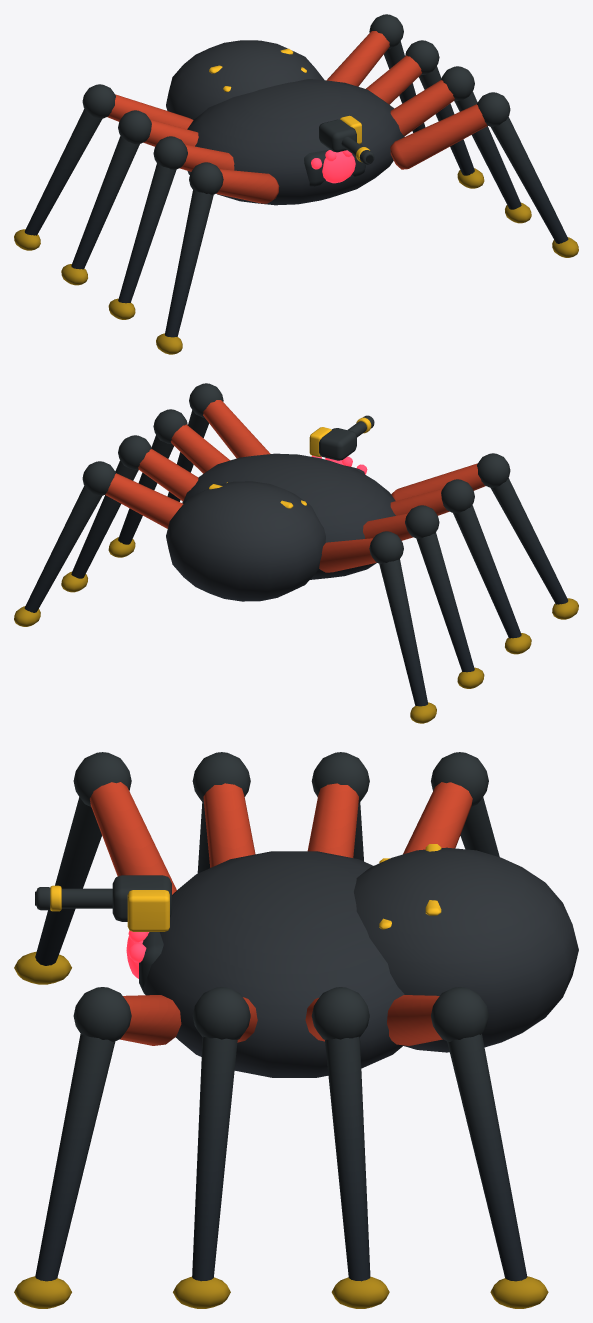
File: spider.glb
3 views of the same model, one above another, from view 1: azimuth 30°, elevation 25°; view 2: azimuth 150°, elevation 25°; view 3: azimuth 270°, elevation 25° (orthographic). The views are drawn at different scales.
Visible parts, largest first — view 1: Armored spider, Spider abdomen, Leg upper.004, Leg lower, Leg lower.001, Leg lower.002, Leg lower.004, Leg lower.003, Leg upper.005, Leg upper.007, Leg lower.005, Leg upper (+17 smaller); view 2: Spider abdomen, Armored spider, Leg lower.003, Leg lower.002, Leg lower.001, Leg lower.007, Leg lower, Leg upper.007, Leg upper.004, Leg lower.006, Leg upper.006, Leg upper.003 (+15 smaller); view 3: Armored spider, Spider abdomen, Leg lower.007, Leg lower.004, Leg lower.005, Leg lower.006, Leg upper, Leg lower, Leg upper.001, Leg upper.002, Leg upper.003, Leg knee.005 (+19 smaller).
Boxes of the visible parts, x1,y1,x2,y2 form: Armored spider: [187, 79, 404, 205]; Spider abdomen: [166, 40, 324, 119]; Leg upper.004: [390, 104, 487, 169]; Leg lower: [165, 190, 213, 337]; Leg lower.001: [118, 163, 176, 303]; Leg lower.002: [71, 136, 139, 269]; Leg lower.004: [490, 117, 568, 243]; Leg lower.003: [24, 109, 102, 235]; Leg upper.005: [390, 80, 454, 135]; Leg upper.007: [326, 31, 389, 86]; Leg lower.005: [454, 91, 521, 209]; Leg upper: [216, 169, 279, 203]; Spider abdomen: [166, 481, 325, 601]; Armored spider: [182, 453, 395, 579]; Leg lower.003: [379, 559, 427, 706]; Leg lower.002: [416, 532, 474, 672]; Leg lower.001: [453, 505, 521, 638]; Leg lower.007: [24, 486, 102, 612]; Leg lower: [490, 478, 568, 604]; Leg upper.007: [105, 473, 183, 528]; Leg upper.004: [203, 400, 270, 458]; Leg lower.006: [71, 460, 138, 578]; Leg upper.006: [138, 449, 198, 501]; Leg upper.003: [319, 538, 376, 572]; Armored spider: [143, 851, 404, 1077]; Spider abdomen: [354, 847, 578, 1052]; Leg lower.007: [447, 1034, 527, 1281]; Leg lower.004: [35, 1034, 115, 1281]; Leg lower.005: [192, 1036, 237, 1281]; Leg lower.006: [325, 1036, 370, 1281]; Leg upper: [90, 782, 176, 894]; Leg lower: [35, 797, 101, 965]; Leg upper.001: [203, 783, 255, 867]; Leg upper.002: [307, 783, 358, 857]; Leg upper.003: [403, 782, 472, 854]; Leg knee.005: [192, 987, 250, 1039].
Size of the model in its own units: 6.1 by 2.32 by 4.27.
Materials: 6 (4 with a texture image).
